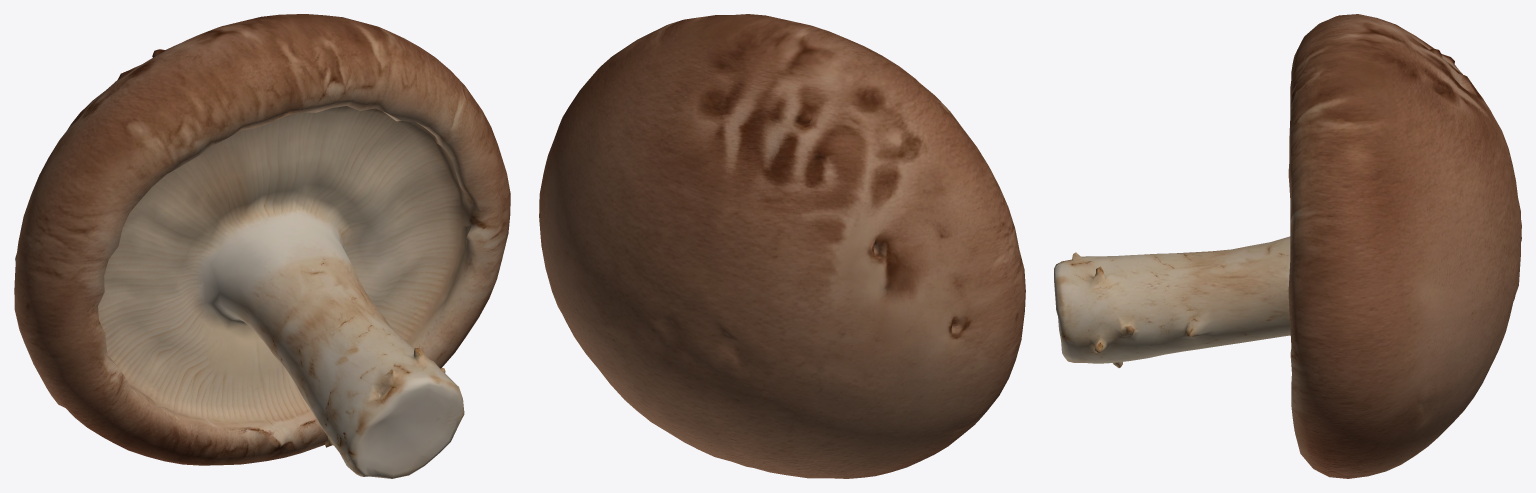
File: optimized_glb.glb
The picture shows the model from 3 angles, left to right: view 1: azimuth 30°, elevation 25°; view 2: azimuth 150°, elevation 25°; view 3: azimuth 270°, elevation 25°; orthographic projection. The views are drawn at different scales.
Parts seen in each view (by area): view 1: Shiitake Mushroom; view 2: Shiitake Mushroom; view 3: Shiitake Mushroom.
Boxes of the visible parts, bbox=[...] form: Shiitake Mushroom: bbox=[14, 14, 510, 478]; Shiitake Mushroom: bbox=[539, 14, 1025, 478]; Shiitake Mushroom: bbox=[1054, 14, 1521, 478].
Bounding box in the file's own units: 0.998 × 0.873 × 0.916.
1 material, 1 textured.
